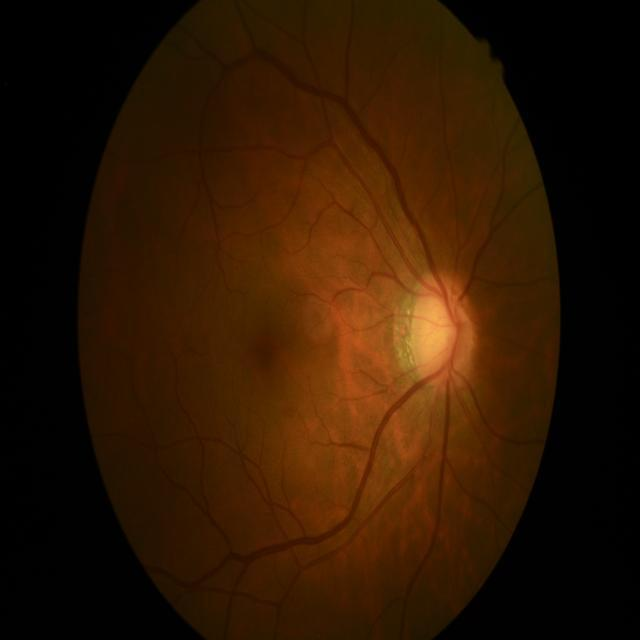cup: (414, 291, 461, 379)
disk: (411, 273, 476, 390)
